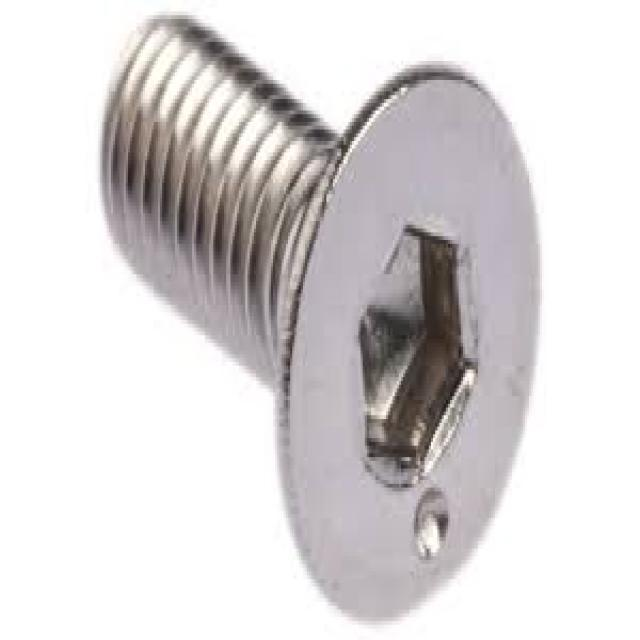Screw: (98, 15, 546, 625)
